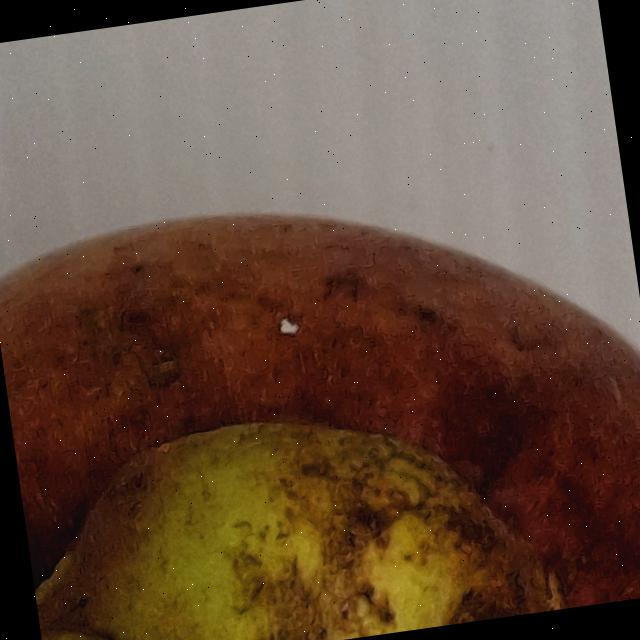mangosteen: (0, 87, 640, 640)
